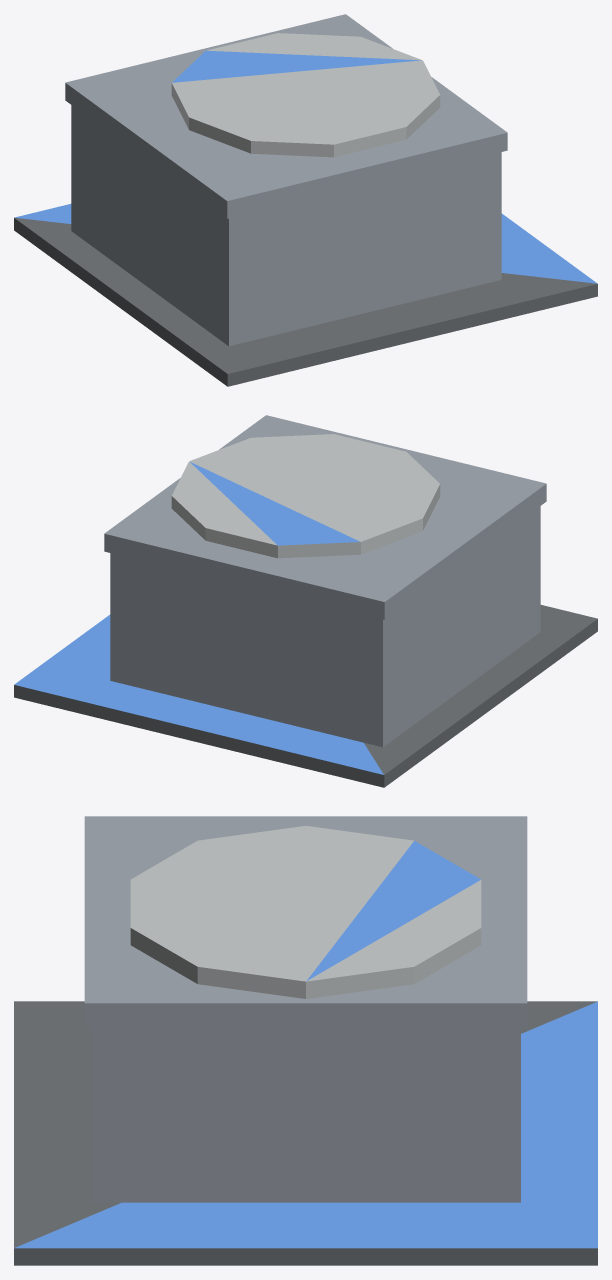
File: veyran_radar.glb
3 views of the same model, one above another, from view 1: azimuth 30°, elevation 25°; view 2: azimuth 150°, elevation 25°; view 3: azimuth 270°, elevation 25° (orthographic). The views are drawn at different scales.
Visible parts, largest first — view 1: hull, dish; view 2: hull, dish; view 3: hull, dish.
Boxes of the visible parts, x1,y1,x2,y2 form: hull: (14,14,597,386); dish: (171,33,440,157); hull: (14,415,597,787); dish: (171,434,440,558); hull: (14,816,597,1265); dish: (130,826,481,998).
Bounding box in the file's own units: 7.6 × 3.42 × 7.6.
